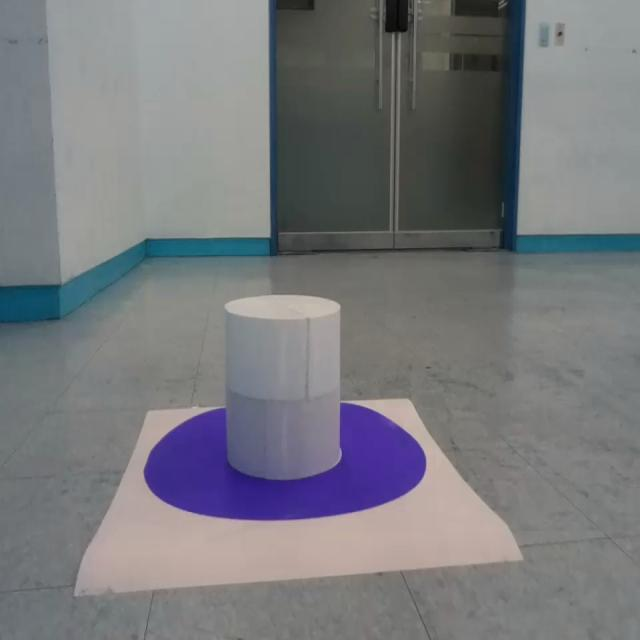cylinder: (222, 295, 344, 480)
